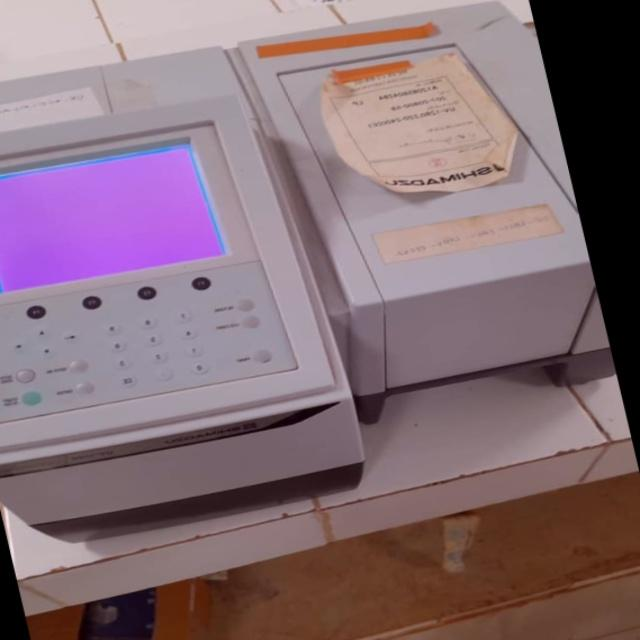Spectrophotometer: (0, 2, 626, 550)
